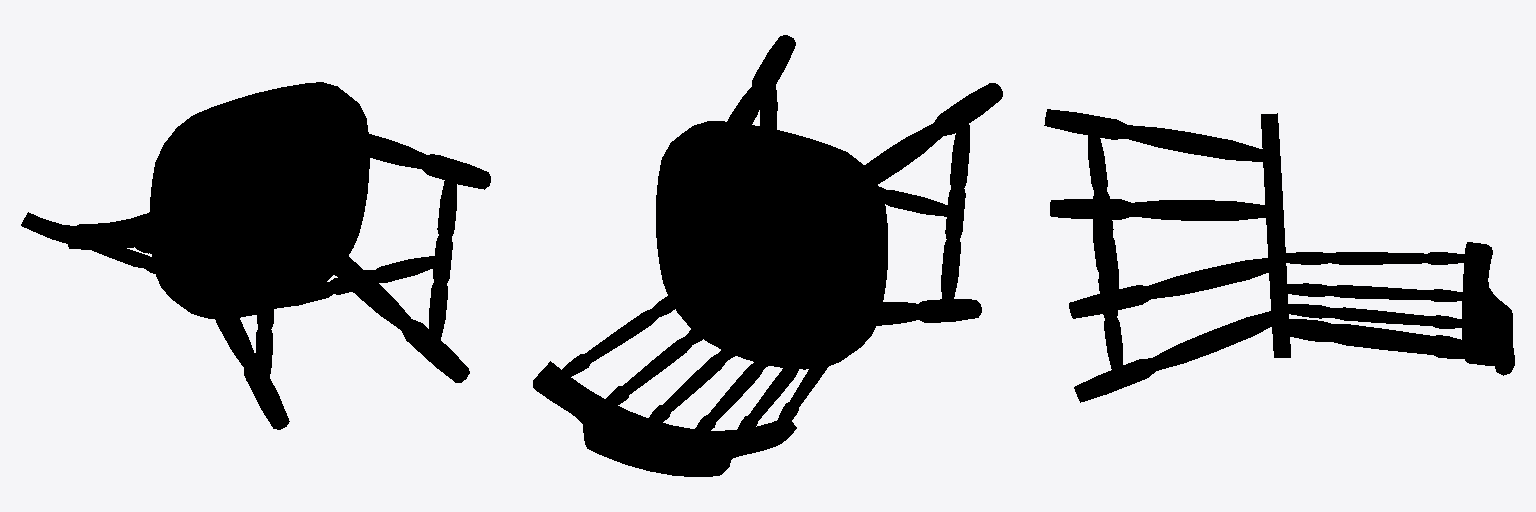
URDF robot description (chair):
<?xml version="1.0" ?>
<robot name="chair">
  <link name="baseLink">
    <contact>
      <lateral_friction value="1.0"/>
      <rolling_friction value="0.0"/>
      <contact_cfm value="0.0"/>
      <contact_erp value="1.0"/>
    </contact>
    <inertial>
      <origin rpy="0 0 0" xyz="0.0989 -0.4075 0.6236"/>
       <mass value="6.0"/>
       <inertia ixx="0.25329985" ixy="-0.00000017" ixz="-0.00000096" iyy="0.25469998" iyz="0.08153485" izz="0.24913930"/>
    </inertial>
    <visual>
      <origin rpy="0 0 0" xyz="0.0989 -0.4075 0.6236"/>
      <geometry>
        <mesh filename="chair.obj" scale="0.02 0.02 0.02"/>
      </geometry>
       <material name="black">
        <color rgba="0 0 0 1"/>
      </material>
    </visual>
    <collision concave="yes">
      <origin rpy="0 0 0" xyz="0.0989 -0.4075 0.6236"/>
      <geometry>
	 	<mesh filename="chair.obj" scale="0.02 0.02 0.02"/>
      </geometry>
    </collision>
  </link>
</robot>

--- Facts derived from the render (not from the file) ---
3 views of the same robot in one strip: view 1: azimuth 30°, elevation 25°; view 2: azimuth 150°, elevation 25°; view 3: azimuth 270°, elevation 25° (orthographic).
Model chair with 1 links and 0 joints (none), rooted at baseLink, posed all joints at 0.
Links seen in each view (by area): view 1: baseLink; view 2: baseLink; view 3: baseLink.
Boxes of the visible links, bbox=[...] form: baseLink: bbox=[21, 82, 490, 429]; baseLink: bbox=[533, 35, 1002, 476]; baseLink: bbox=[1044, 109, 1514, 402].
Size in the robot's own frame: 0.0102 by 0.0182 by 0.0094 metres.
1 mesh visuals loaded from 1 distinct referenced files (1 OBJ).
